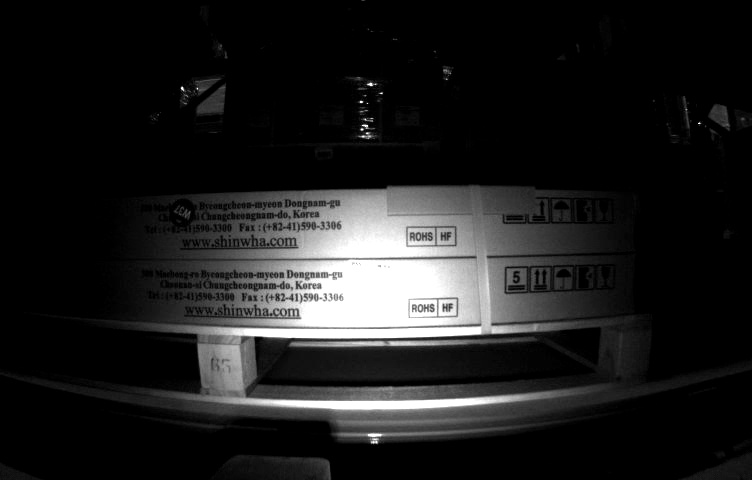True Barcode: (347, 259, 406, 319)
